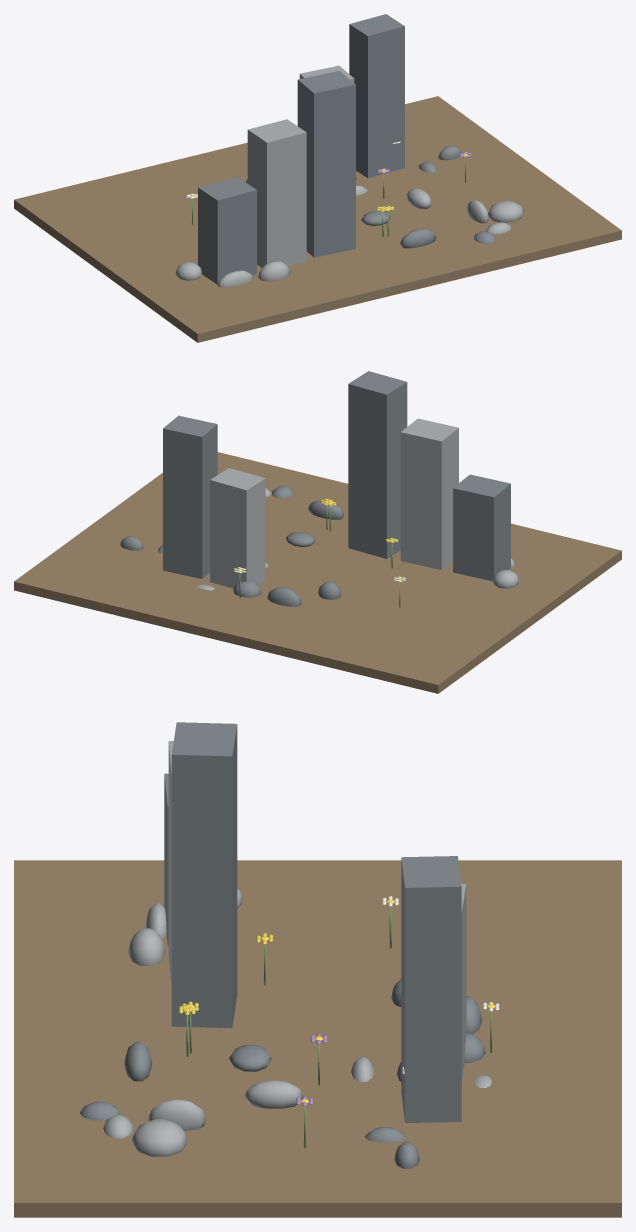
File: ruins_landmark.glb
The picture shows the model from 3 angles, top to bottom: view 1: azimuth 30°, elevation 25°; view 2: azimuth 150°, elevation 25°; view 3: azimuth 270°, elevation 25°; orthographic projection. The views are drawn at different scales.
Visible parts, largest first — view 1: ruin_ground, ruin_wall_2, ruin_wall_4, ruin_wall_1, ruin_wall_0, rubble_1, rubble_6, rubble_7; view 2: ruin_ground, ruin_wall_2, ruin_wall_1, ruin_wall_4, ruin_wall_3, ruin_wall_0, rubble_16, rubble_6; view 3: ruin_ground, ruin_wall_2, ruin_wall_4, rubble_1, rubble_9, rubble_5, rubble_7, ruin_wall_3, ruin_wall_1, rubble_2, rubble_6, ruin_wall_0.
Boxes of the visible parts, box(x1,y1,x2,y2) form: ruin_ground: box(14, 96, 621, 342); ruin_wall_2: box(297, 71, 355, 257); ruin_wall_4: box(349, 14, 404, 178); ruin_wall_1: box(247, 119, 306, 267); ruin_wall_0: box(198, 177, 256, 284); rubble_1: box(488, 200, 524, 222); rubble_6: box(400, 228, 436, 248); rubble_7: box(258, 261, 290, 281); ruin_ground: box(14, 452, 621, 693); ruin_wall_2: box(348, 371, 407, 558); ruin_wall_1: box(400, 418, 458, 569); ruin_wall_4: box(163, 415, 217, 578); ruin_wall_3: box(210, 468, 265, 588); ruin_wall_0: box(453, 474, 510, 581); rubble_16: box(267, 587, 301, 606); rubble_6: box(308, 500, 343, 519); ruin_ground: box(14, 860, 621, 1217); ruin_wall_2: box(171, 722, 237, 1028); ruin_wall_4: box(401, 856, 461, 1122); rubble_1: box(131, 1119, 187, 1156); rubble_9: box(244, 1080, 303, 1108); rubble_5: box(148, 1099, 206, 1130); rubble_7: box(128, 928, 165, 965); ruin_wall_3: box(461, 884, 466, 1080); ruin_wall_1: box(168, 741, 173, 986); rubble_2: box(229, 1045, 271, 1071); rubble_6: box(124, 1041, 152, 1081); ruin_wall_0: box(164, 773, 168, 945).
Bounding box in the file's own units: 4 × 1.62 × 3.
